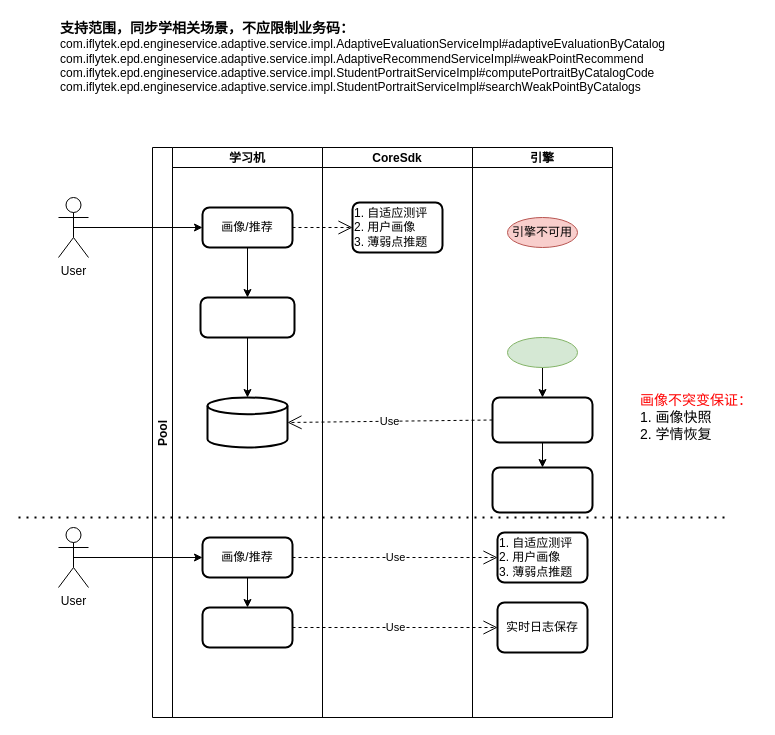
Some shapes in this 775 by 735 pixel diagram are drawn without their labels. Here are the shapes that lost their labels. From the top down, the centre of each, then its label:
the point at 247,317: 答题日志临时存储
the point at 542,352: 引擎恢复
the point at 247,422: 未投递日志详情
the point at 542,419: 恢复丢失学情
the point at 542,489: 引擎服务可用
the point at 247,627: 日志上报
